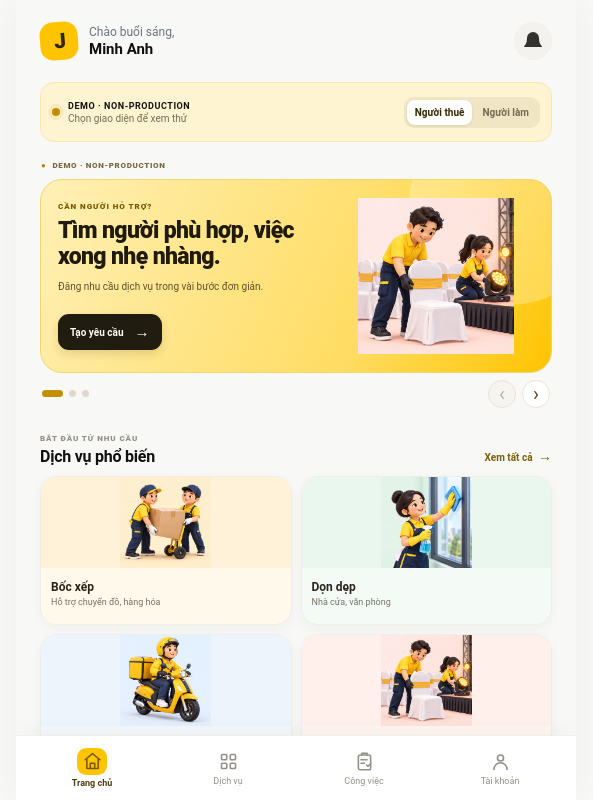
AppShell role context › opens the existing upcoming shift detail from Worker Home and returns to My Jobs
The width and height of the screenshot is (593, 800).
Click the button "Người làm" at (506, 112), box x1=474 y1=100 x2=537 y2=124
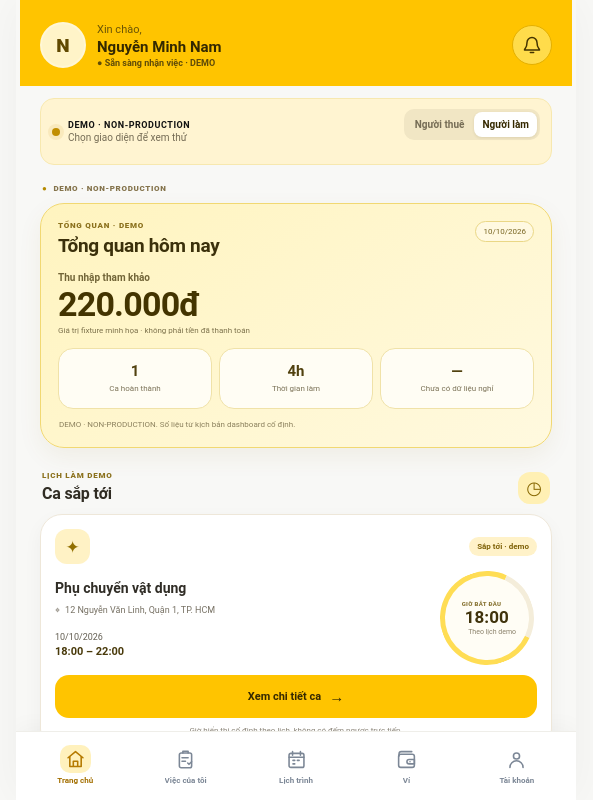
Click the button "Xem chi tiết ca →" at (296, 697), box x1=55 y1=675 x2=537 y2=718
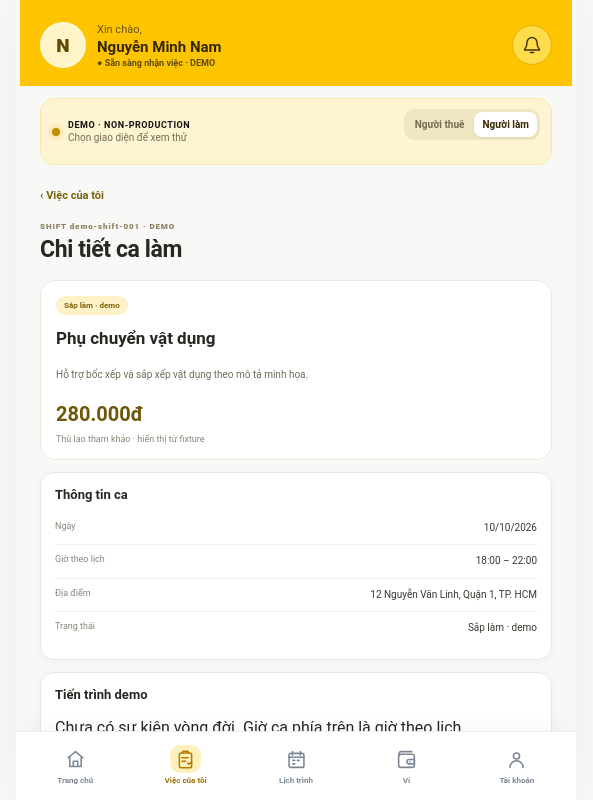
Now the heading "Phụ chuyển vật dụng" is shown, box x1=56 y1=328 x2=216 y2=348
Now the heading "Chi tiết ca làm" is shown, box x1=40 y1=236 x2=182 y2=263
Click the button "‹ Việc của tôi" at (72, 196), box x1=40 y1=184 x2=104 y2=207
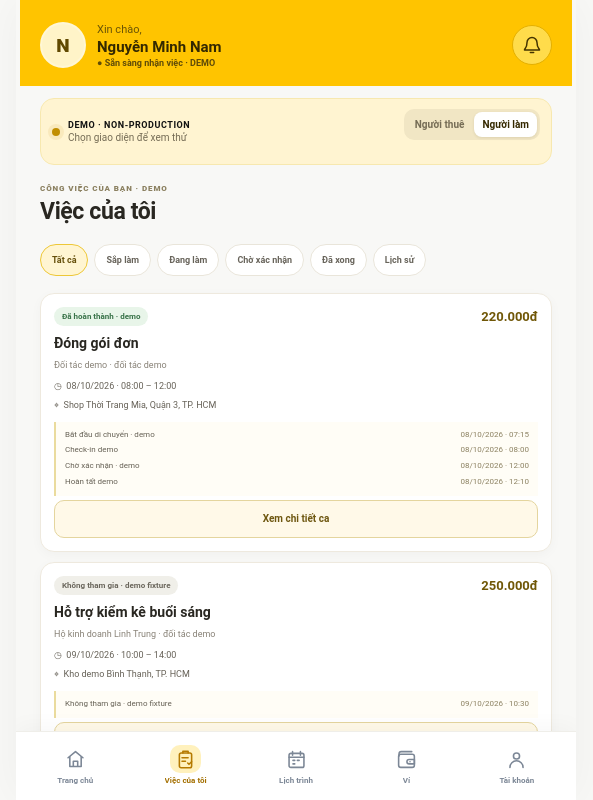
Now the heading "Việc của tôi" is shown, box x1=40 y1=198 x2=156 y2=225
